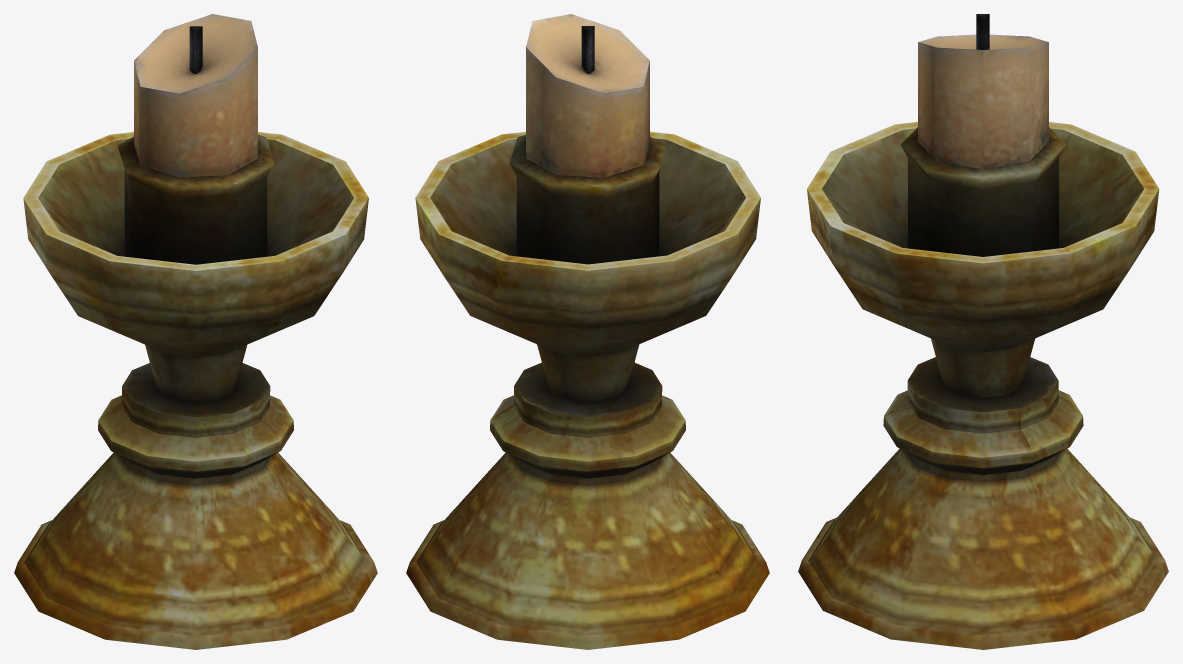
The model's file is candlestick01.dae.
The picture shows the model from 3 angles, left to right: view 1: azimuth 30°, elevation 25°; view 2: azimuth 150°, elevation 25°; view 3: azimuth 270°, elevation 25°; orthographic projection.
Visible parts, largest first — view 1: CandleStick01; view 2: CandleStick01; view 3: CandleStick01.
Part boxes in pixels (<box>): CandleStick01: <box>14,14,377,649</box>; CandleStick01: <box>406,14,769,649</box>; CandleStick01: <box>798,14,1168,649</box>.
Size of the model in its own units: 0.2116 by 0.2116 by 0.35.
1 material, 1 textured.
